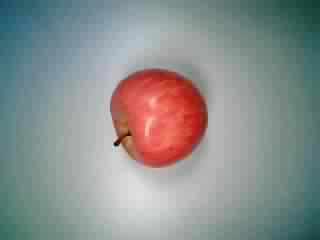apple: (106, 66, 210, 170)
